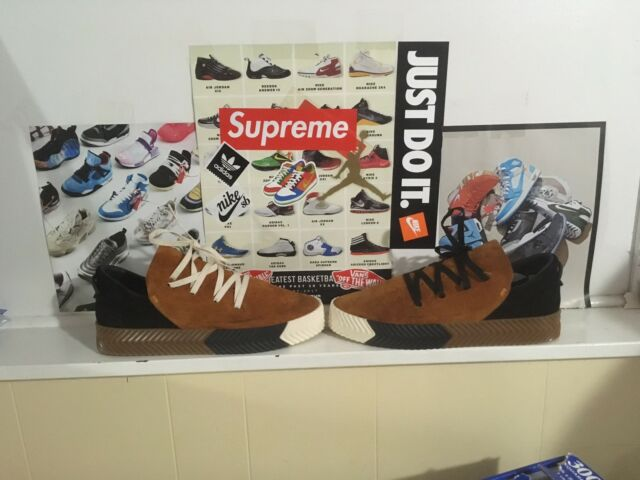adidas AW Skate Sand: (85, 239, 331, 362), (327, 234, 567, 351)
